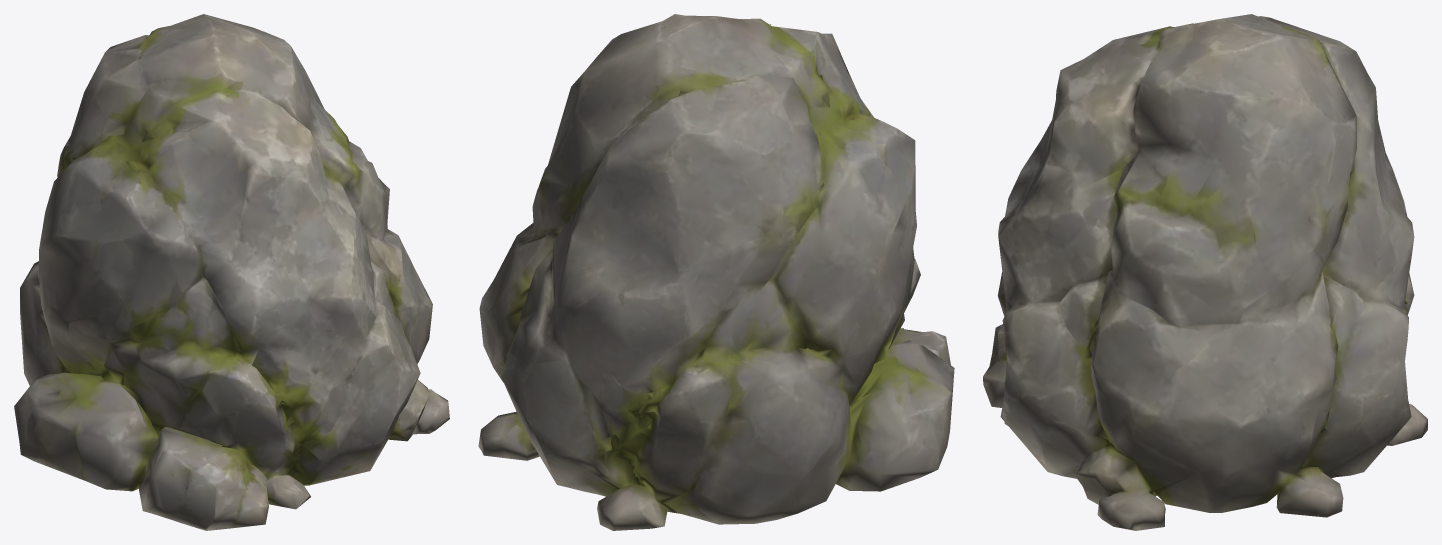
The model's file is rock_a.glb.
The picture shows the model from 3 angles, left to right: view 1: azimuth 30°, elevation 25°; view 2: azimuth 150°, elevation 25°; view 3: azimuth 270°, elevation 25°; orthographic projection. The views are drawn at different scales.
Visible parts, largest first — view 1: tripo_node_260418fb-8a33-4670-b720-c4fa3f291c9a; view 2: tripo_node_260418fb-8a33-4670-b720-c4fa3f291c9a; view 3: tripo_node_260418fb-8a33-4670-b720-c4fa3f291c9a.
Part boxes in pixels (x1,y1,x2,y2): tripo_node_260418fb-8a33-4670-b720-c4fa3f291c9a: [14, 14, 449, 530]; tripo_node_260418fb-8a33-4670-b720-c4fa3f291c9a: [478, 14, 954, 530]; tripo_node_260418fb-8a33-4670-b720-c4fa3f291c9a: [983, 14, 1427, 530].
Size of the model in its own units: 1 by 0.9634 by 0.9327.
Materials: 1 (1 with a texture image).
